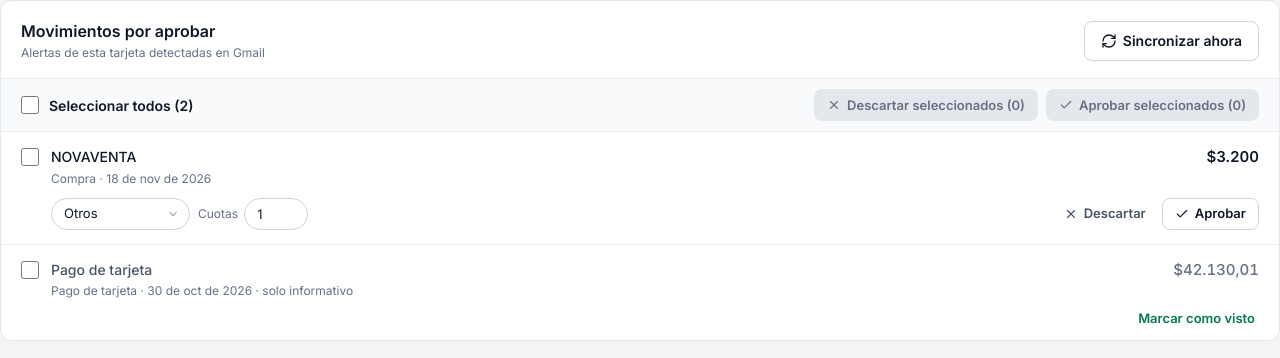
Test: CardPending › los botones masivos están deshabilitados hasta seleccionar algo
expect the button "Aprobar seleccionados (0)" is disabled: met, box [1046,89,1259,121]
expect the button "Descartar seleccionados (0)" is disabled: met, box [814,89,1038,121]
Click the checkbox labelled "Seleccionar todos (2)": (30, 105) [21,96,39,114]
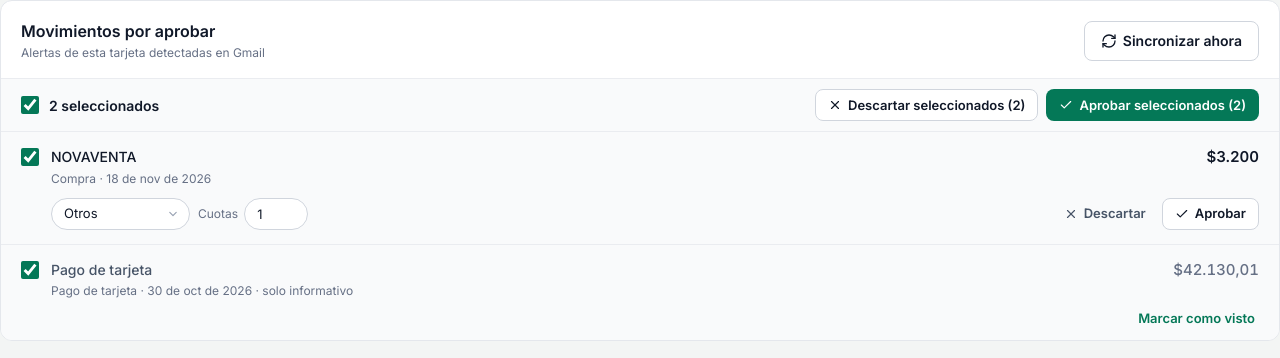
expect the button "Aprobar seleccionados (2)" is enabled: met, box [1046,89,1259,121]
